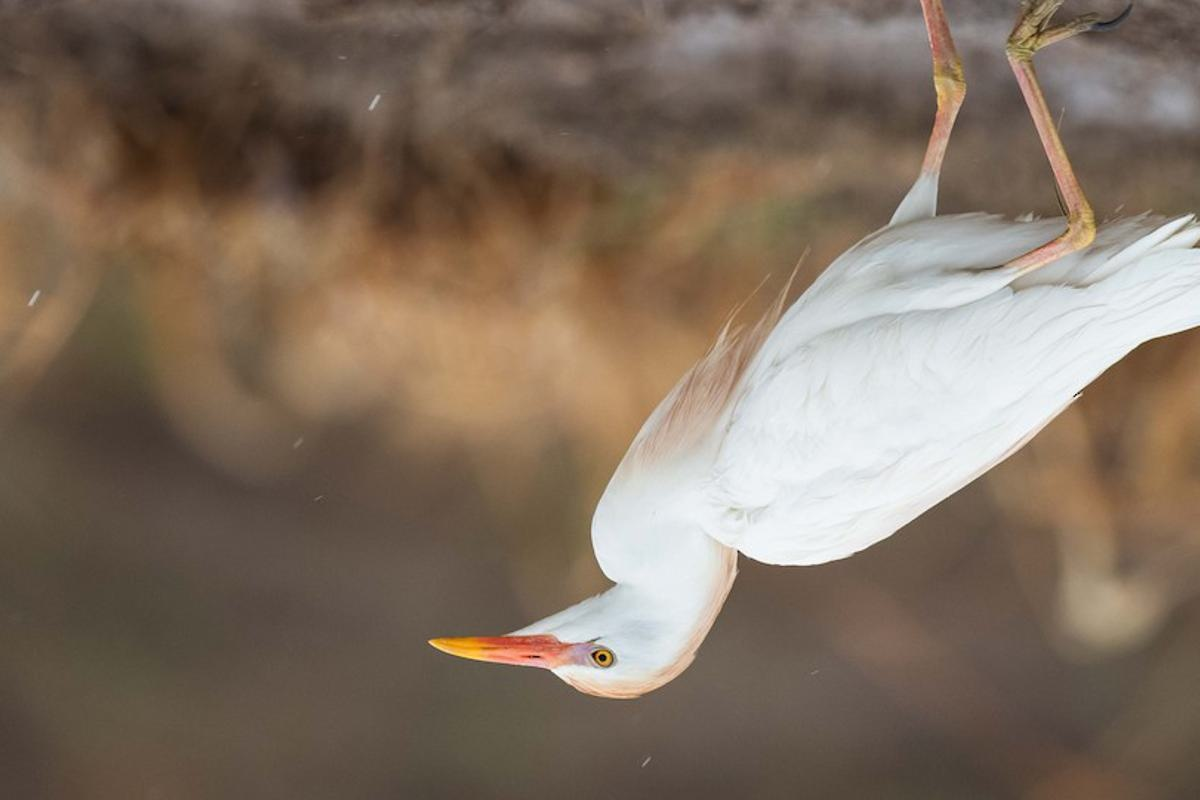egret: (429, 1, 1200, 713)
